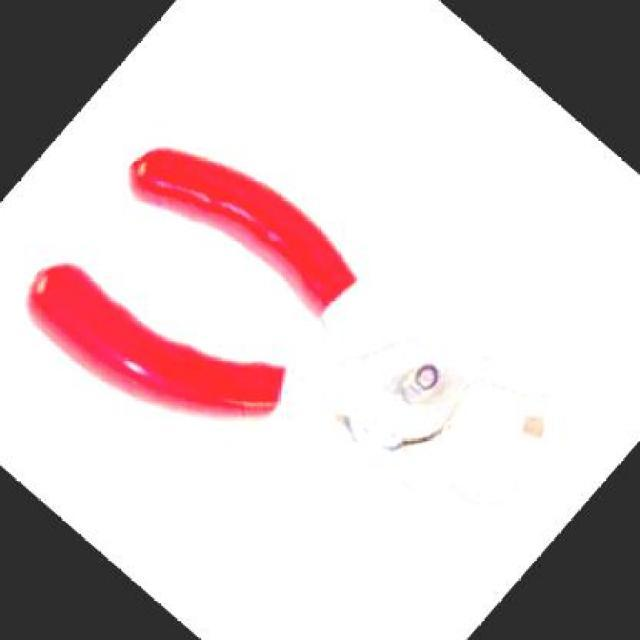pliers: (0, 67, 598, 638)
